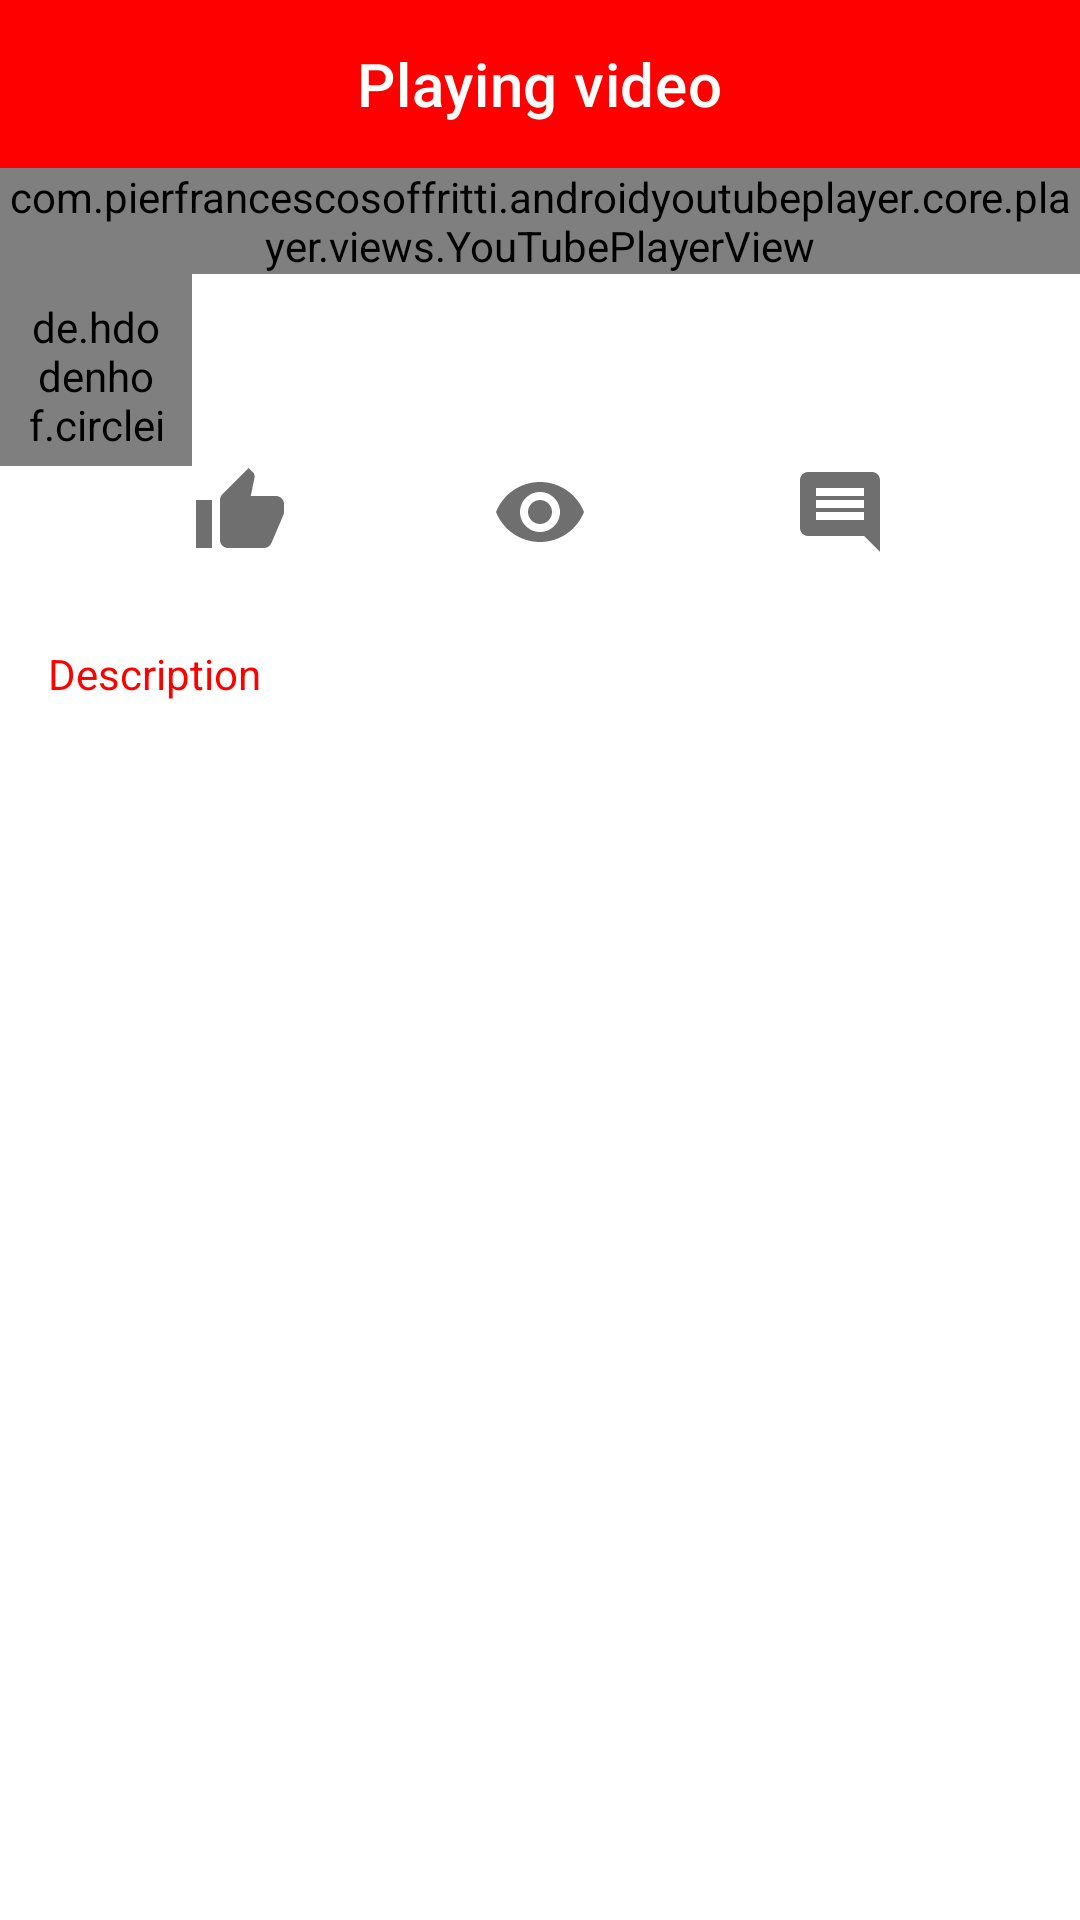

Icon click points for this 1080 x 1920 phone screenshot, format point (x, y):
comments: point (840, 512)
eye: point (540, 512)
thumb up: point (240, 508)
